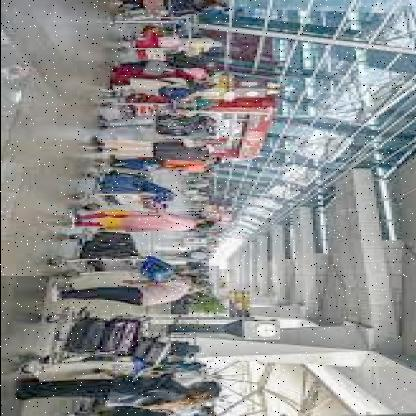airport-trolley: (28, 304, 168, 378), (46, 230, 156, 282), (67, 166, 172, 212), (101, 87, 178, 126)
